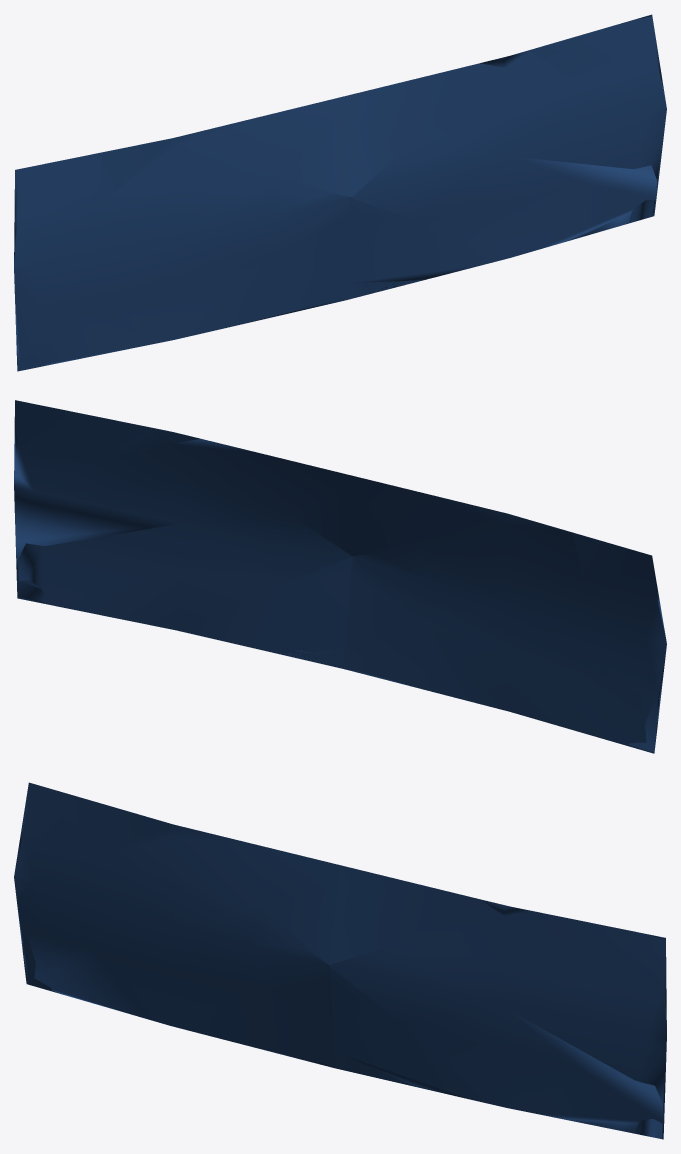
File: GEO_Bumper_Rear.glb
3 views of the same model, one above another, from view 1: azimuth 30°, elevation 25°; view 2: azimuth 150°, elevation 25°; view 3: azimuth 330°, elevation 25° (orthographic).
Parts seen in each view (by area): view 1: GEO_Bumper_Rear; view 2: GEO_Bumper_Rear; view 3: GEO_Bumper_Rear.
Boxes of the visible parts, bbox=[...] form: GEO_Bumper_Rear: bbox=[14, 14, 666, 371]; GEO_Bumper_Rear: bbox=[14, 400, 666, 753]; GEO_Bumper_Rear: bbox=[14, 782, 666, 1139].
Bounding box in the file's own units: 1.64 × 0.4799 × 0.0801.
